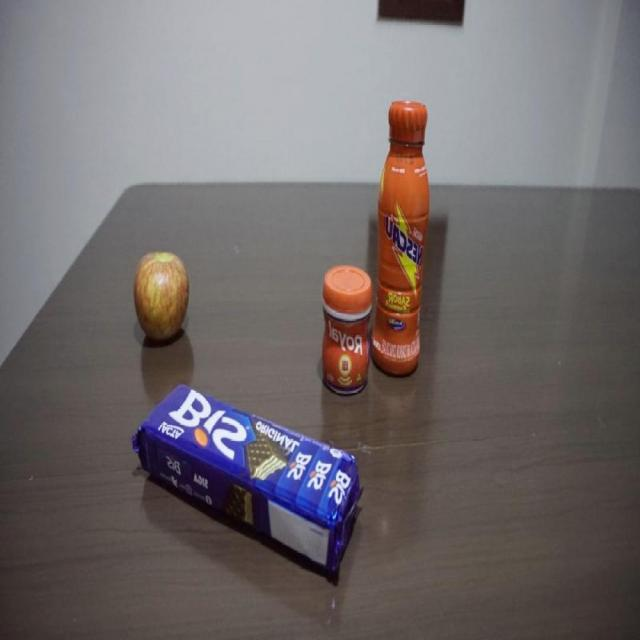Apple: (133, 250, 189, 344)
ChocolateMilk: (371, 100, 430, 377)
Yeast: (321, 266, 372, 395)
